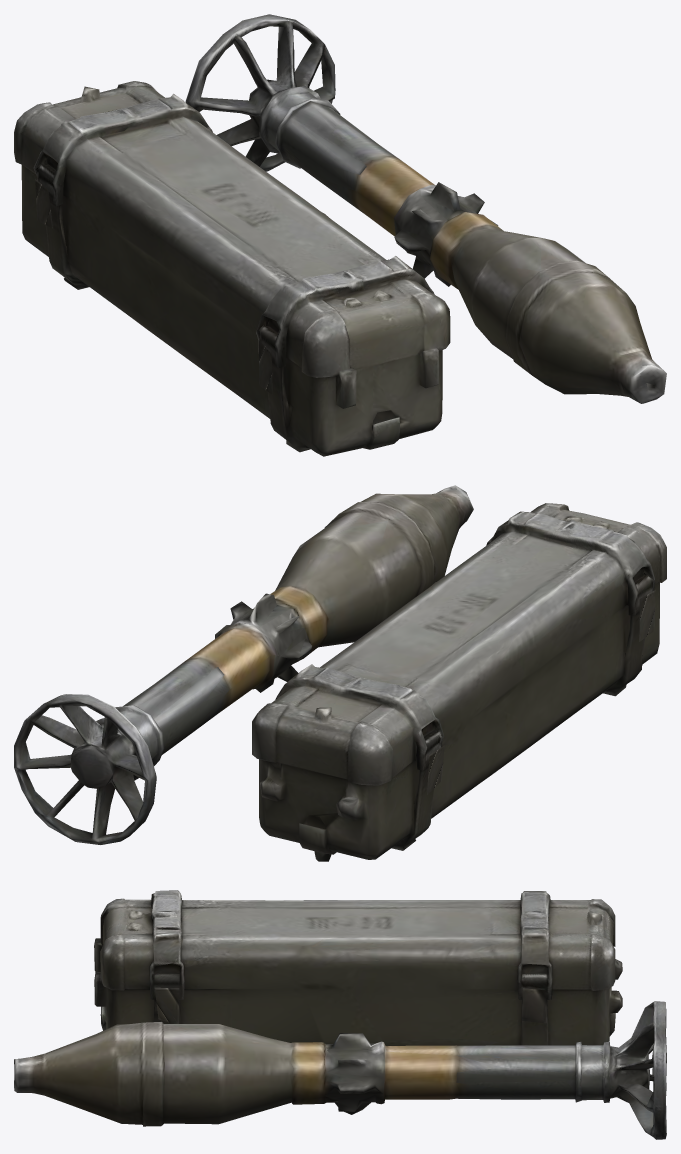
3 views of the same model, one above another, from view 1: azimuth 30°, elevation 25°; view 2: azimuth 150°, elevation 25°; view 3: azimuth 270°, elevation 25° (orthographic). The views are drawn at different scales.
Parts seen in each view (by area): view 1: tripo_node_e451812a-2406-4661-a35a-2b5c2eff6db2; view 2: tripo_node_e451812a-2406-4661-a35a-2b5c2eff6db2; view 3: tripo_node_e451812a-2406-4661-a35a-2b5c2eff6db2.
Boxes of the visible parts, x1,y1,x2,y2 form: tripo_node_e451812a-2406-4661-a35a-2b5c2eff6db2: [14, 14, 666, 456]; tripo_node_e451812a-2406-4661-a35a-2b5c2eff6db2: [14, 485, 666, 861]; tripo_node_e451812a-2406-4661-a35a-2b5c2eff6db2: [14, 890, 666, 1139].
Bounding box in the file's own units: 0.5361 × 0.2318 × 1.
Materials: 1 (1 with a texture image).
